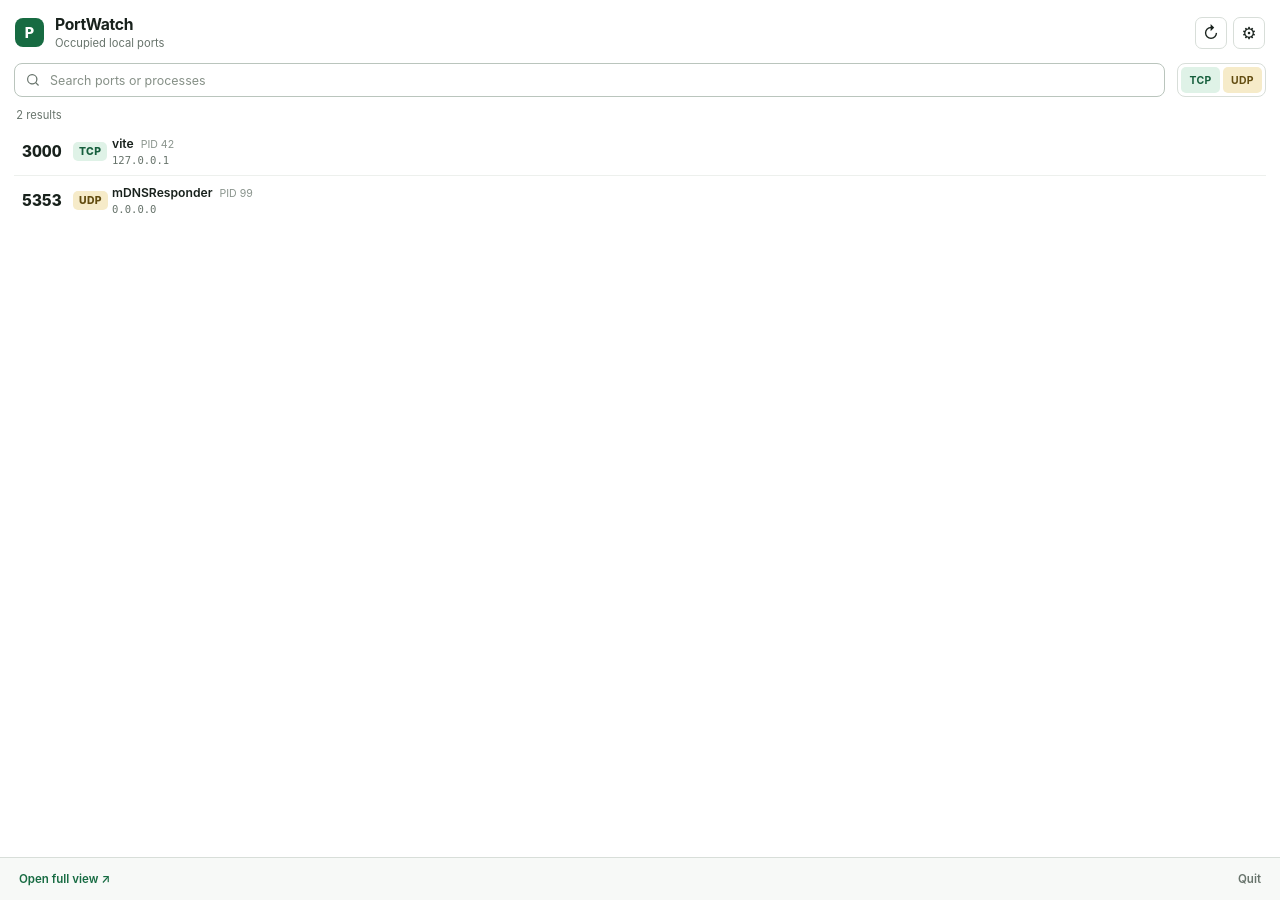
compact panel › keeps stale results visible and marks a background refresh failure
Expected: the text "vite" is shown, [112, 136, 134, 151]
Click the button named "Refresh ports" at [1211, 32], box [1195, 16, 1227, 48]
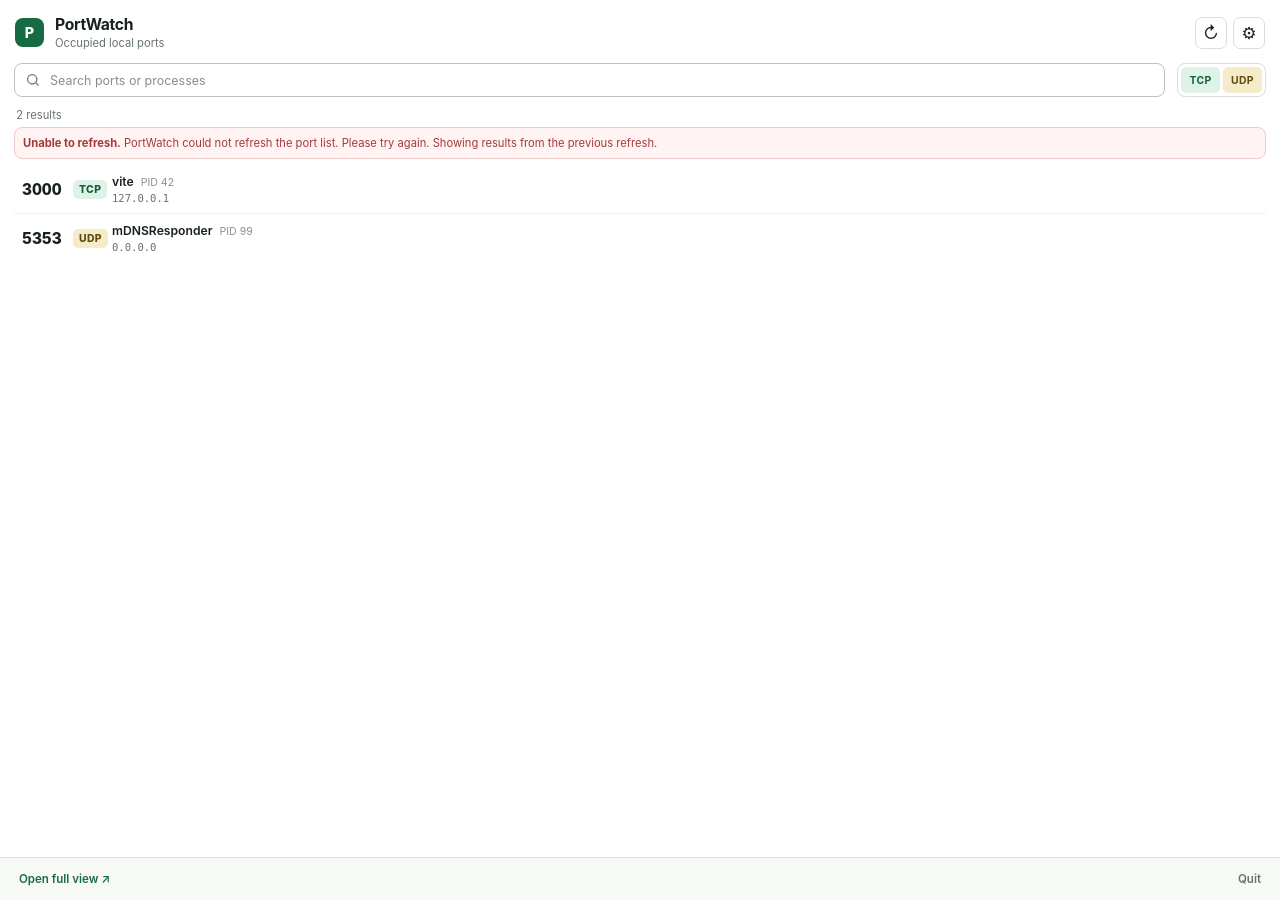
Expected: the text "vite" is shown, [112, 174, 134, 189]
Result: the message shows "Showing results from the previous refresh" at [430, 136, 657, 150]
